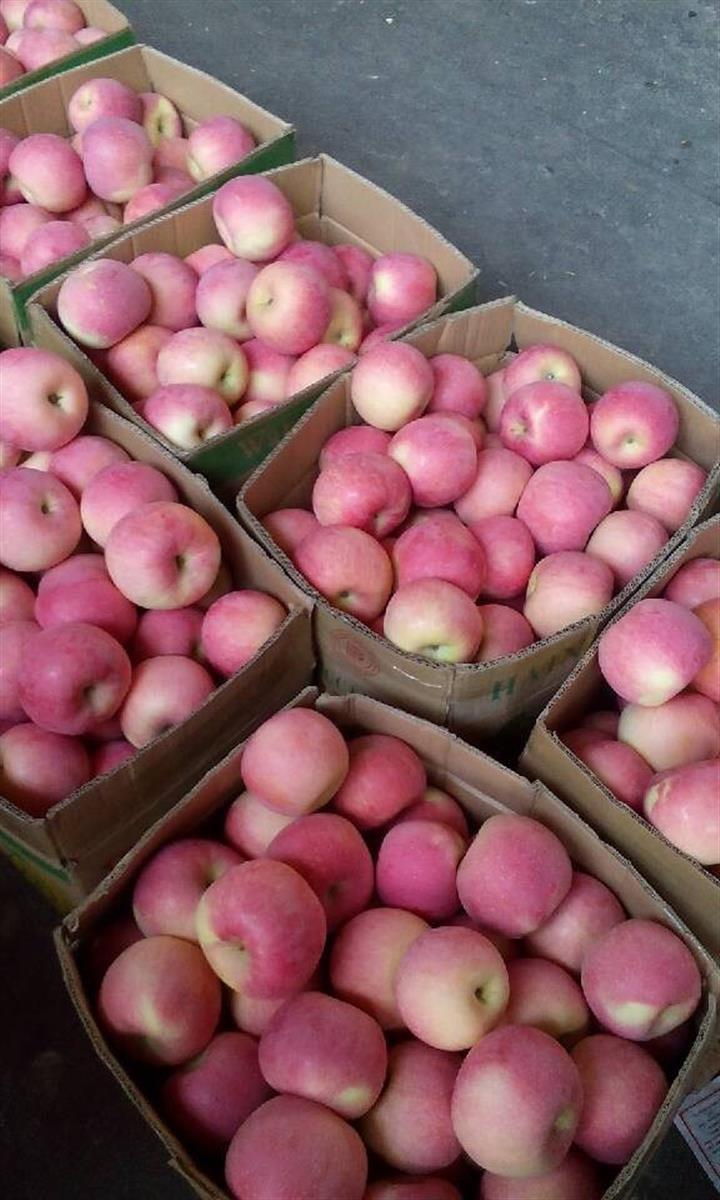apple: (451, 1027, 586, 1183), (195, 860, 332, 1004), (254, 986, 389, 1117), (100, 936, 224, 1066), (223, 1090, 369, 1200), (582, 914, 703, 1043), (392, 925, 512, 1054), (457, 809, 572, 938), (16, 621, 133, 734), (105, 498, 222, 611), (600, 597, 715, 711), (570, 1036, 666, 1167), (238, 706, 351, 817), (322, 735, 426, 834), (291, 522, 392, 620), (512, 457, 614, 552), (1, 349, 89, 457), (309, 451, 412, 538), (1, 466, 83, 573), (386, 418, 482, 508), (585, 382, 679, 471), (386, 516, 485, 599), (384, 577, 483, 660), (348, 339, 433, 434), (59, 259, 148, 345), (209, 179, 298, 265), (244, 266, 333, 352), (522, 552, 612, 637), (498, 378, 587, 462), (155, 329, 250, 403), (364, 251, 436, 328)
